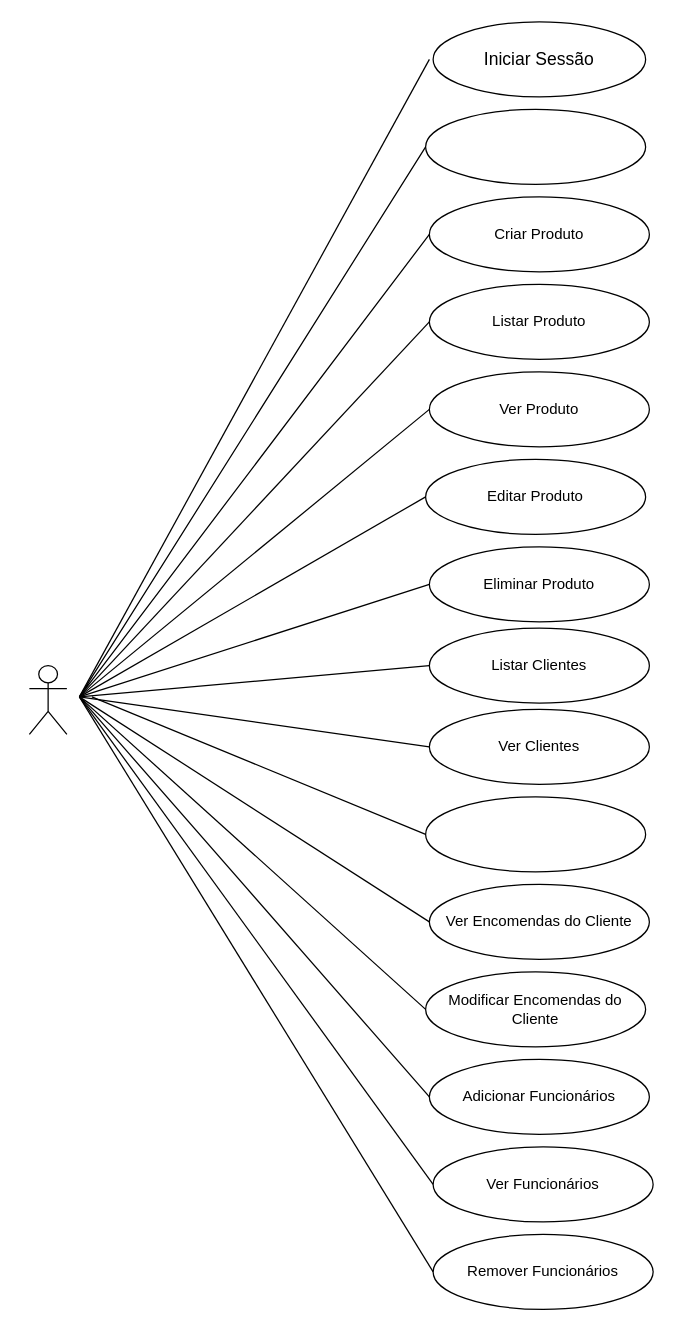
Some shapes in this 675 by 1331 pixel diagram are drawn without their labels. The shapes that lost their labels are listed below. From the top down, each one's centre as x and y in pixels, then its label:
the point at 535,146: Encerrar Sessão
the point at 47,699: Gerente
the point at 535,834: Listar Encomendas do Cliente
